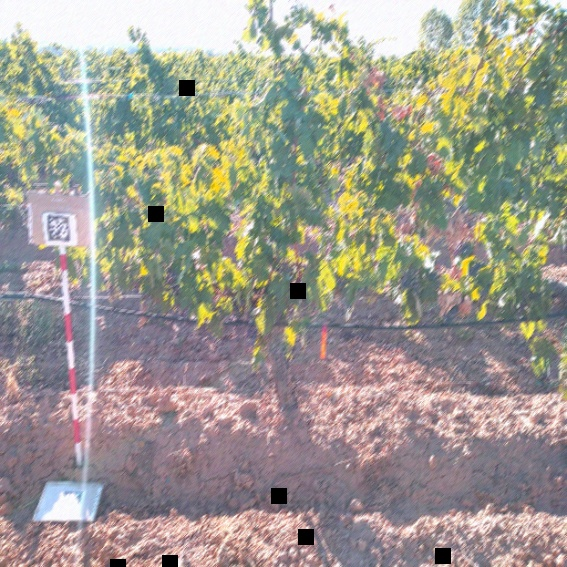QR: (46, 214, 71, 243)
